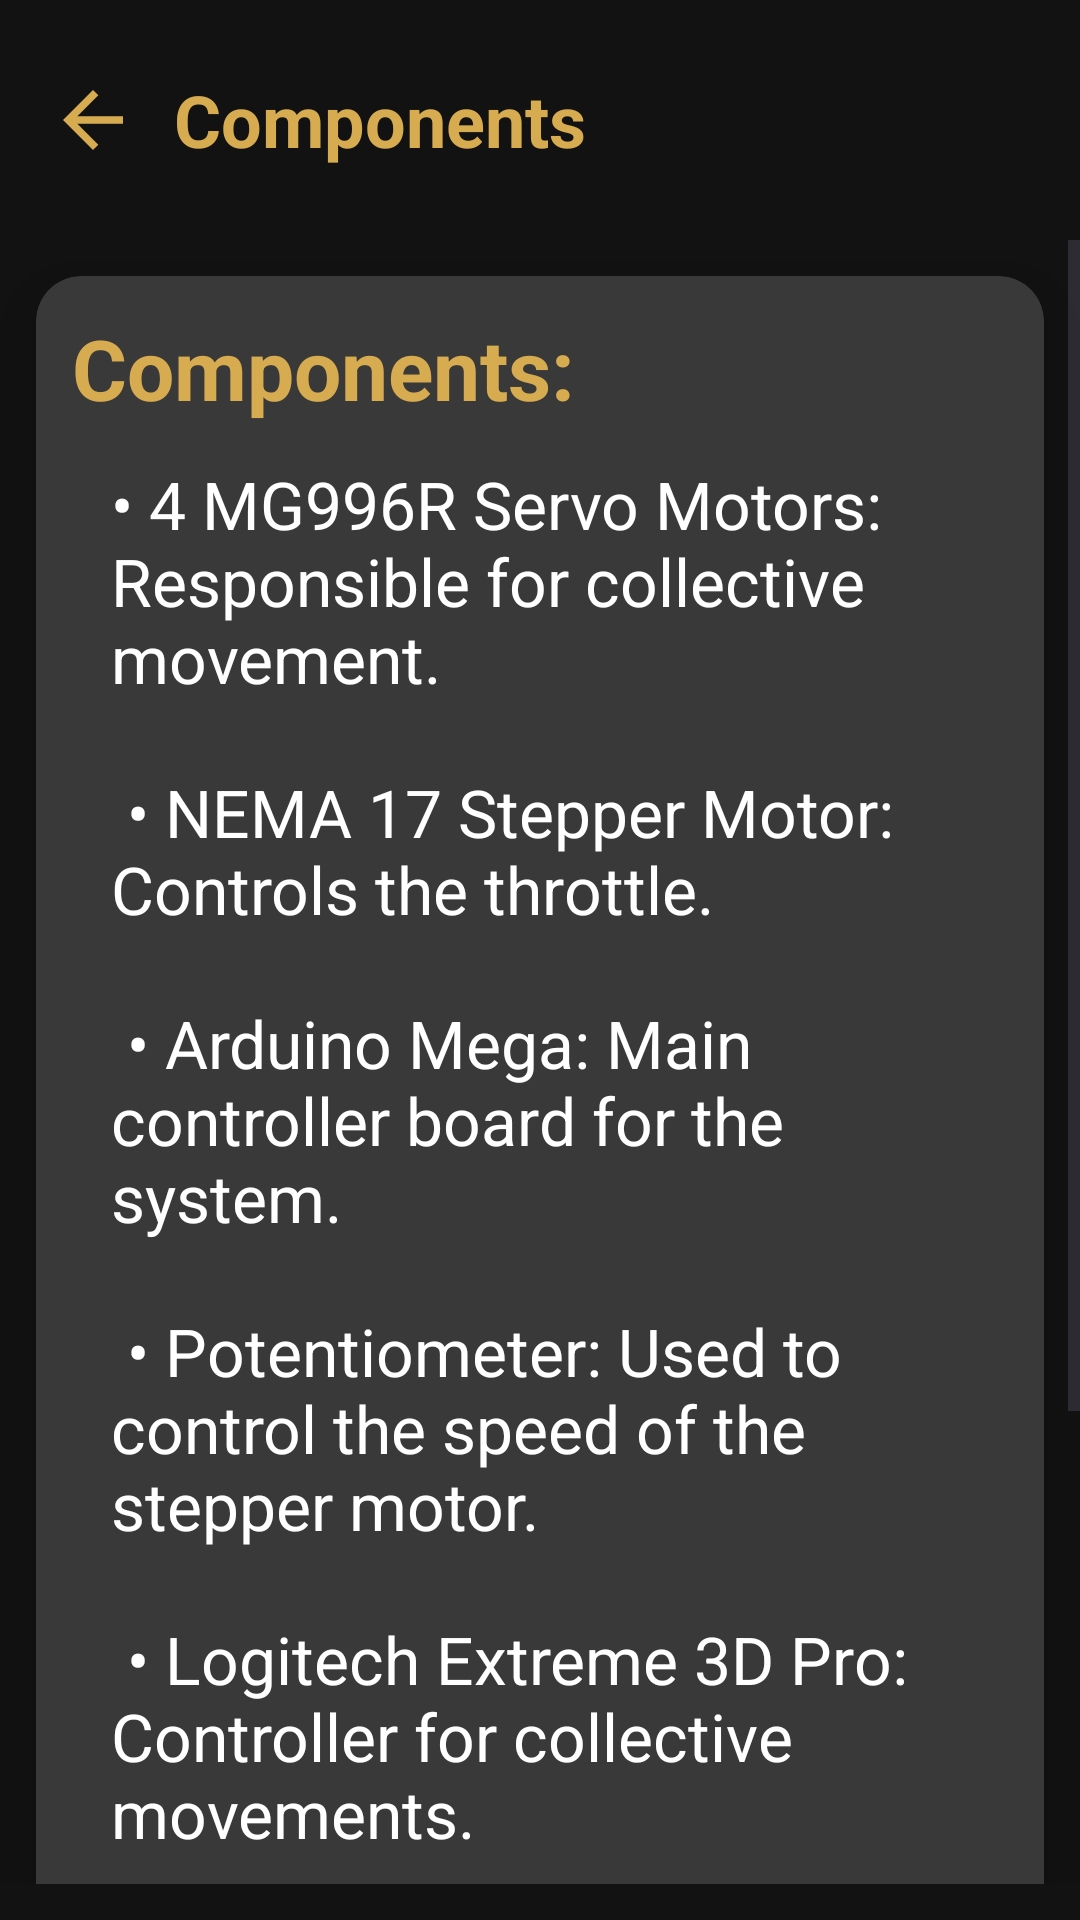

Locate icon controls on the screen. Image size 1080 × 1920, boxes as (x1, y1, x2, y2).
arrow back: (63, 90, 123, 150)
